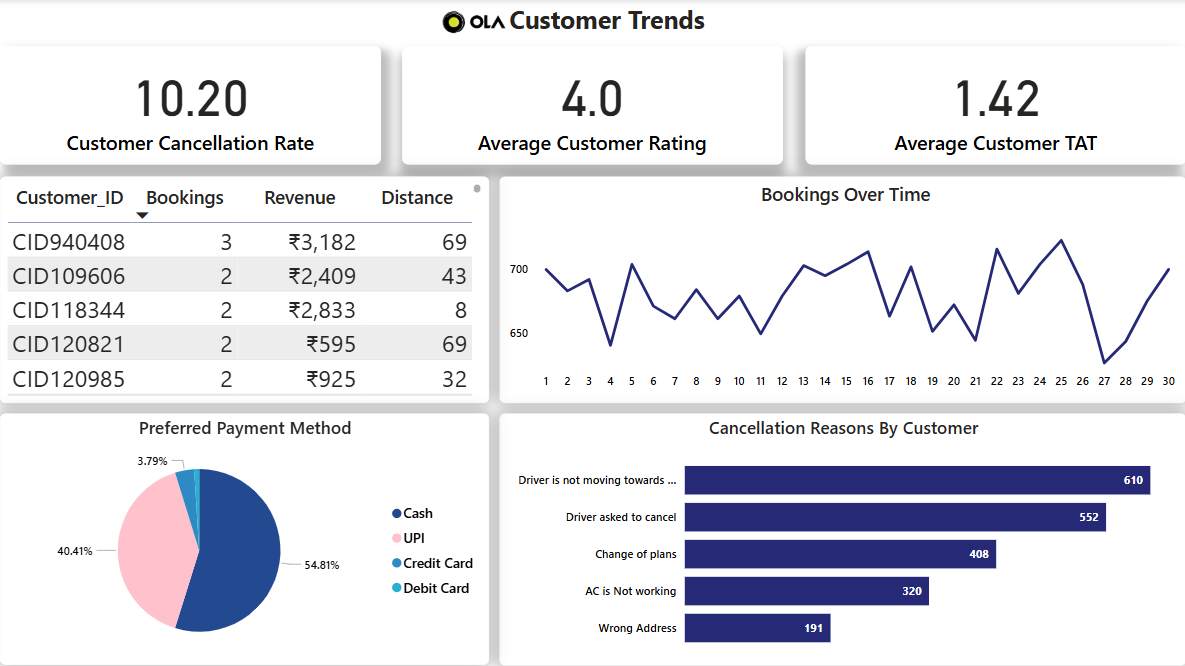

The page's visual inventory and layout, read from the dashboard file:
{"tool":"powerbi","page":{"name":"Customer Trend","canvas":[1280,720],"ordinal":1},"visuals":[{"type":"textbox","box":[0,0,1280.8,51.8],"z":0},{"type":"image","box":[463.1,0,97.2,51.8],"z":1},{"type":"card","fields":{"Values":["OlaData.Customer Cancellation Rate"]},"box":[0,51.8,411.3,127.9],"z":2},{"type":"card","fields":{"Values":["Avg(OlaData.Customer_Rating)"]},"box":[434,51.8,411.3,127.9],"z":3},{"type":"card","fields":{"Values":["Avg(OlaData.Customer_TAT)"]},"box":[869.5,51.8,411.3,127.9],"z":4},{"type":"lineChart","title":"Bookings Over Time","fields":{"Category":["OlaData.Date.Variation.Date Hierarchy.Day"],"Y":["CountNonNull(OlaData.Booking_ID)"]},"box":[539.2,192.7,741.6,244.5],"z":5},{"type":"barChart","title":"Cancellation Reasons By Customer","fields":{"Category":["OlaData.Canceled_Rides_by_Customer"],"Y":["CountNonNull(OlaData.Booking_ID)"]},"box":[539.2,448.5,741.6,272],"z":6},{"type":"tableEx","fields":{"Values":["OlaData.Customer_ID","OlaData.Booking_ID","Sum(OlaData.Booking_Value)","Sum(OlaData.Ride_Distance)"]},"box":[0,192.7,527.9,244.5],"z":7},{"type":"pieChart","title":"Preferred Payment Method","fields":{"Category":["OlaData.Payment_Method"],"Y":["CountNonNull(OlaData.Payment_Method)"]},"box":[0,449,528,271],"z":8}]}

Visuals, with their boxes in screenshot pixels (x1, y1, x2, y2), scaled from the page's 1280x720 canvas onto the 1185x666 screenshot:
textbox: box=[0, 0, 1184, 48]
image: box=[429, 0, 519, 48]
card - OlaData.Customer Cancellation Rate: box=[0, 48, 381, 166]
card - Avg(OlaData.Customer_Rating): box=[402, 48, 783, 166]
card - Avg(OlaData.Customer_TAT): box=[805, 48, 1184, 166]
"Bookings Over Time" lineChart: box=[499, 178, 1184, 404]
"Cancellation Reasons By Customer" barChart: box=[499, 415, 1184, 665]
tableEx - OlaData.Customer_ID x OlaData.Booking_ID: box=[0, 178, 489, 404]
"Preferred Payment Method" pieChart: box=[0, 415, 489, 665]
